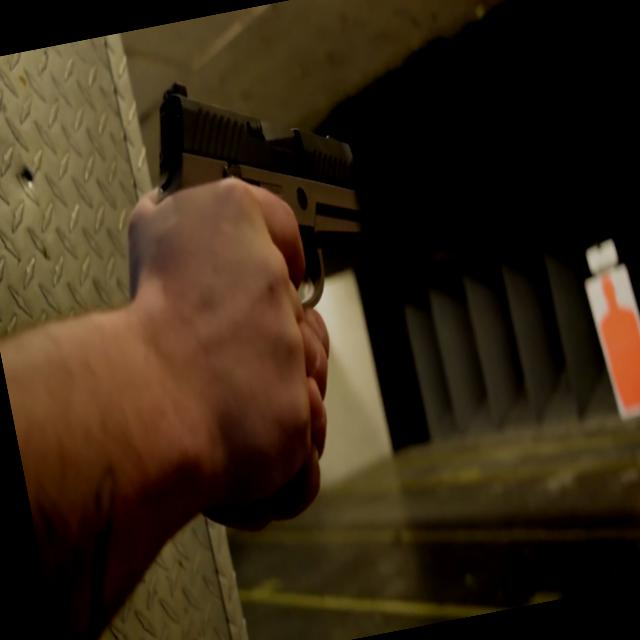handgun: (103, 44, 414, 418)
